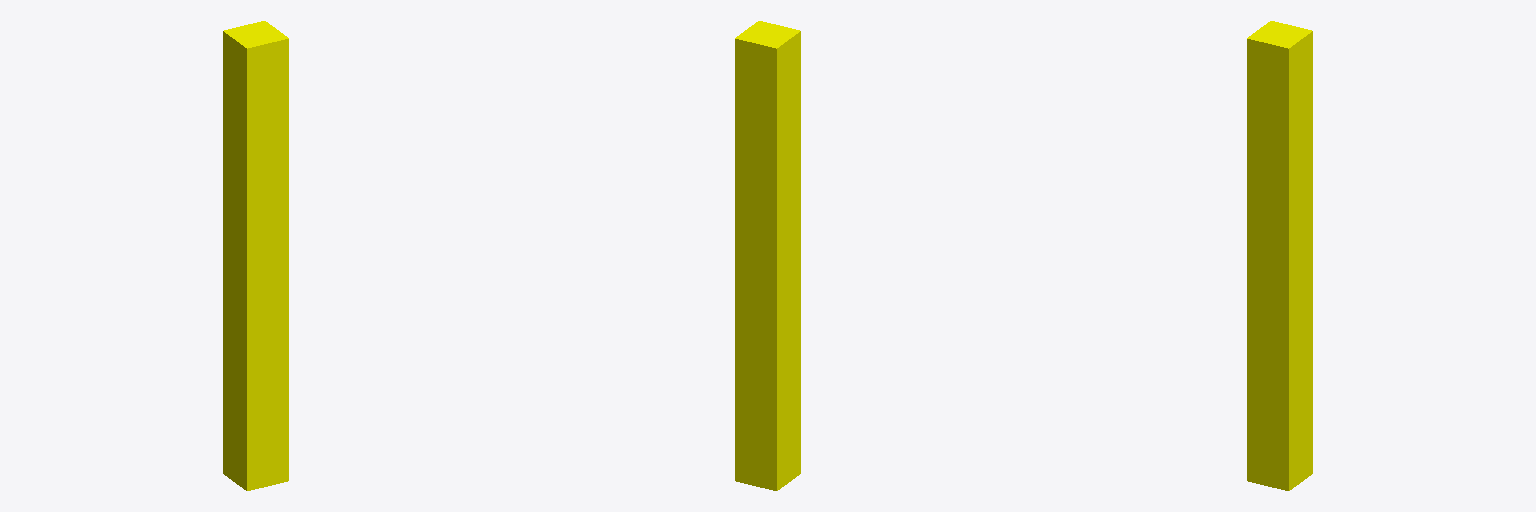
The robot description file, URDF, robot "pointone":
<?xml version="1.0" encoding="utf-8"?>
<robot name="pointone">

<link name="bit1">
<visual>
 <origin rpy="0 0 0" xyz="0 0 0"/>
  <geometry>
    <mesh filename="bit12.stl"/>
  </geometry>
  <material name="">
    <color rgba="1 1 0 1"/>
  </material>
</visual>
<collision>
  <origin rpy="0 0 0" xyz="0 0 0"/>
  <geometry>
    <mesh filename="bit12.stl"/>
  </geometry>
</collision>
<inertial>
  <mass value="0.01"/>
"<origin rpy="0 0 0" xyz="0.050000 0.050000 0.500000"/>
<inertia ixx="0.000842" ixy = "0.0" ixz = "-0.0" iyy = "0.000842" iyz = "-0.0" izz = "1.7e-05" />
</inertial>
</link>

<link name="bitb">
<visual>
 <origin rpy="0 0 0" xyz="0 0 1.2"/>
  <geometry>
    <mesh filename="bitb2.stl"/>
  </geometry>
  <material name="">
    <color rgba="1 0 0 1"/>
  </material>
</visual>
<collision>
  <origin rpy="0 0 0" xyz="0 0 1.2"/>
  <geometry>
    <mesh filename="bitb2.stl"/>
  </geometry>
</collision>
<inertial>
  <mass value="0.01"/>
"<origin rpy="0 0 0" xyz="0.050000 0.050000 0.500000"/>
<inertia ixx="0.000842" ixy = "0.0" ixz = "-0.0" iyy = "0.000842" iyz = "-0.0" izz = "1.7e-05" />
</inertial>
</link>

<joint name="bit12bitb" type="revolute">
<origin xyz="0.0 0.0 0.19999999999999996 "/>
<axis xyz="1 0 0"/>
<parent link="bit1"/>
<child link="bitb"/>
</joint>

</robot>

--- Facts derived from the render (not from the file) ---
Views: 3 orthographic renders of the robot side by side, from view 1: azimuth 30°, elevation 25°; view 2: azimuth 150°, elevation 25°; view 3: azimuth 330°, elevation 25°.
Model pointone with 2 links and 1 joints (1 revolute), rooted at bit1, posed all joints at 0.
Links seen in each view (by area): view 1: bit1; view 2: bit1; view 3: bit1.
Boxes of the visible links, bbox=[...] form: bit1: bbox=[223, 21, 288, 490]; bit1: bbox=[735, 21, 800, 490]; bit1: bbox=[1247, 21, 1312, 490].
Bounding box of the posed robot: 0.1 × 0.1 × 1 m (x, y, z).
Meshes: 2 distinct files referenced, 1 mesh visuals loaded (1 binary STL); not drawn: 1 (reference not matched to a file when rendering).